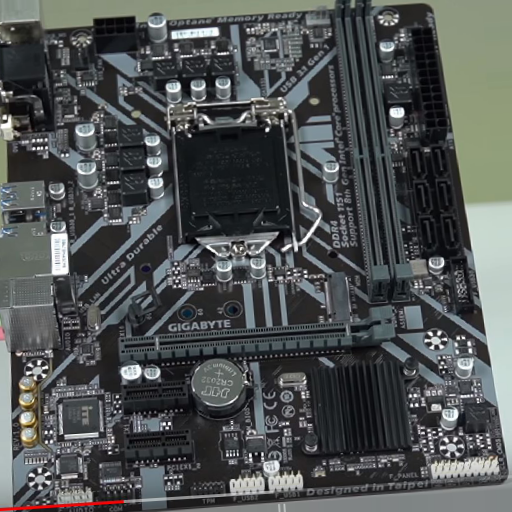CPU: (167, 98, 305, 257)
GPU: (118, 306, 395, 370)
MOTHERBOARD: (1, 2, 507, 491)
RAM: (331, 2, 410, 298)
SSD: (325, 272, 350, 322)
